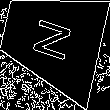N_W: (28, 14, 76, 66)
